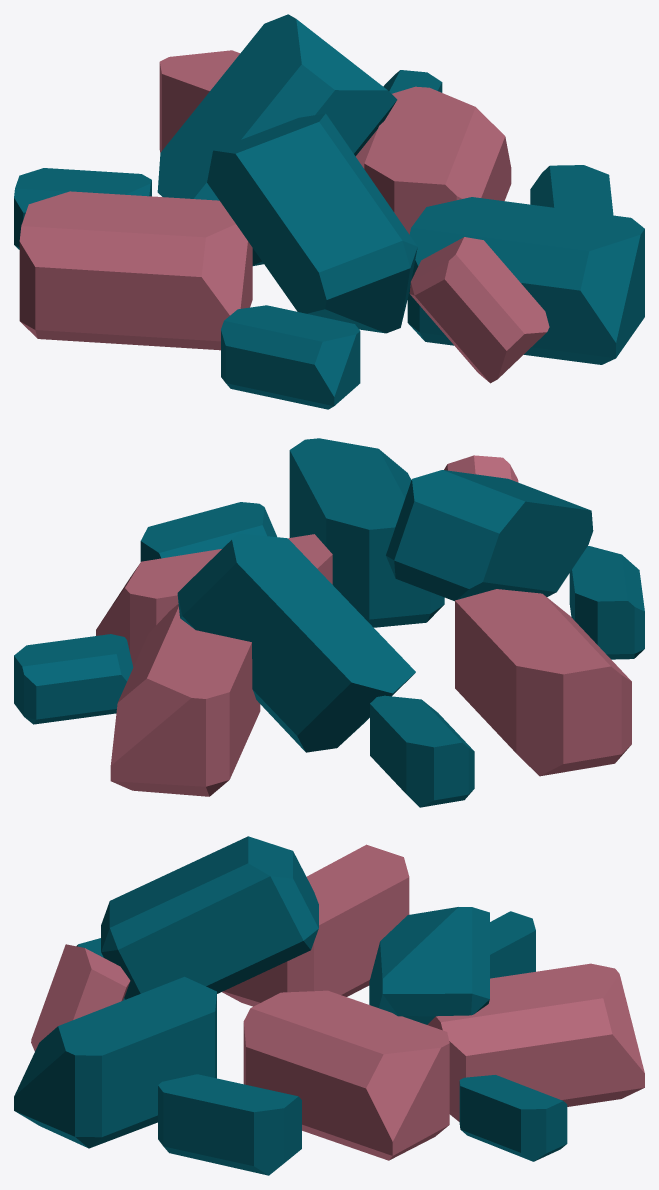
File: RoastedNuts.fbx
The picture shows the model from 3 angles, top to bottom: view 1: azimuth 30°, elevation 25°; view 2: azimuth 150°, elevation 25°; view 3: azimuth 270°, elevation 25°; orthographic projection. The views are drawn at different scales.
Visible parts, largest first — view 1: Roasted Nuts; view 2: Roasted Nuts; view 3: Roasted Nuts.
Part boxes in pixels (left/top/right/bottom): Roasted Nuts: left=14, top=14, right=644, bottom=409; Roasted Nuts: left=14, top=438, right=644, bottom=807; Roasted Nuts: left=14, top=836, right=644, bottom=1175.
Size of the model in its own units: 32.78 by 12.07 by 36.4.
